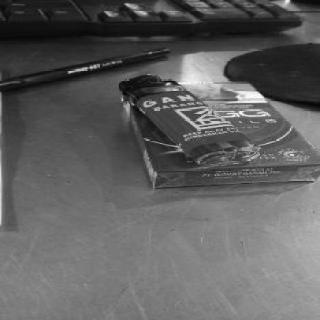objects: (121, 83, 319, 188)
